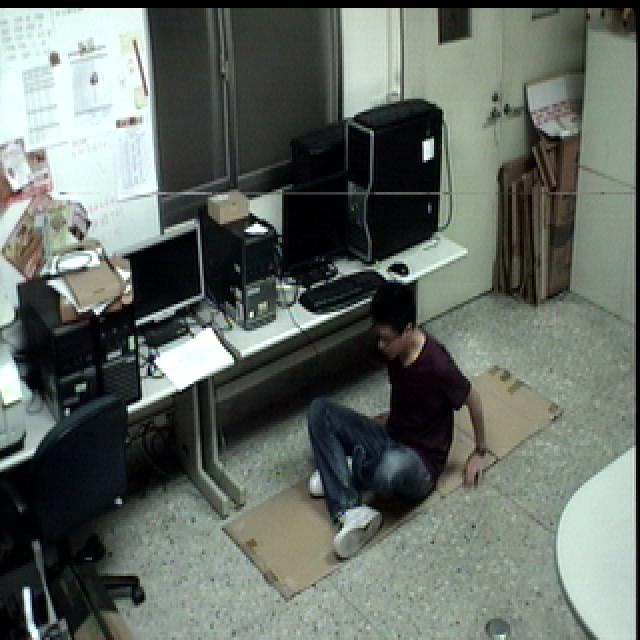sit: (301, 273, 494, 567)
